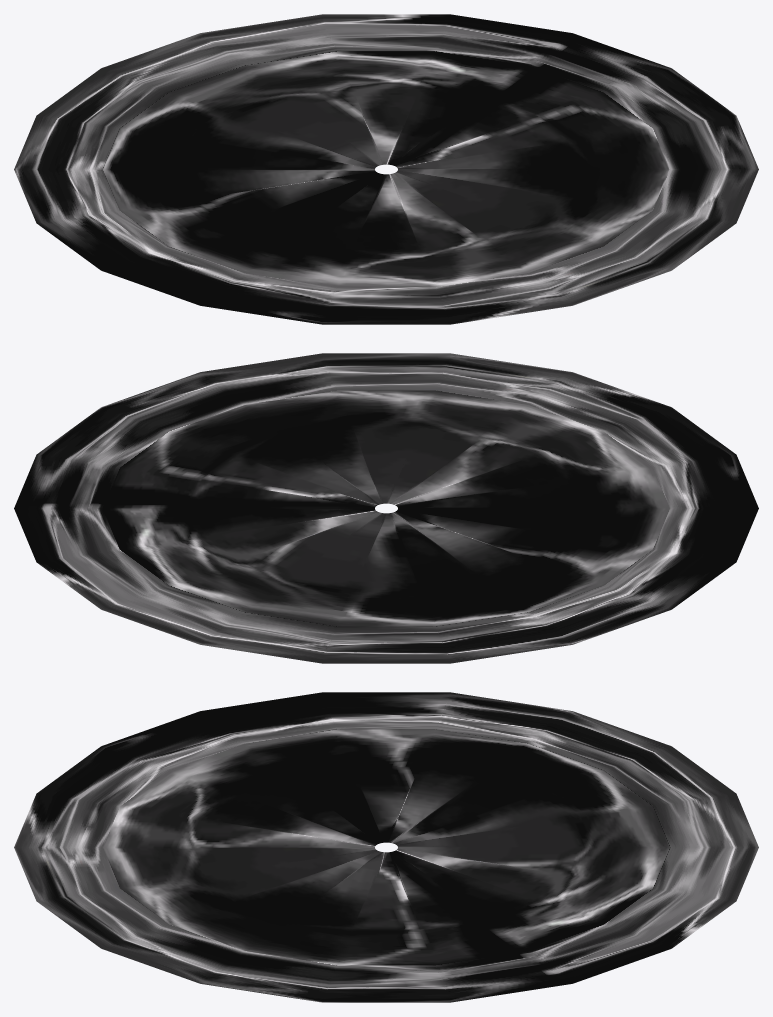
The model's file is fx_yuanxing.FBX.
3 views of the same model, one above another, from view 1: azimuth 30°, elevation 25°; view 2: azimuth 150°, elevation 25°; view 3: azimuth 270°, elevation 25° (orthographic).
Parts seen in each view (by area): view 1: Tube001; view 2: Tube001; view 3: Tube001.
Part boxes in pixels (x1,y1,x2,y2): Tube001: (14, 14, 758, 324); Tube001: (14, 353, 758, 663); Tube001: (14, 692, 758, 1002).
Size of the model in its own units: 226 by 1.41e-14 by 230.
